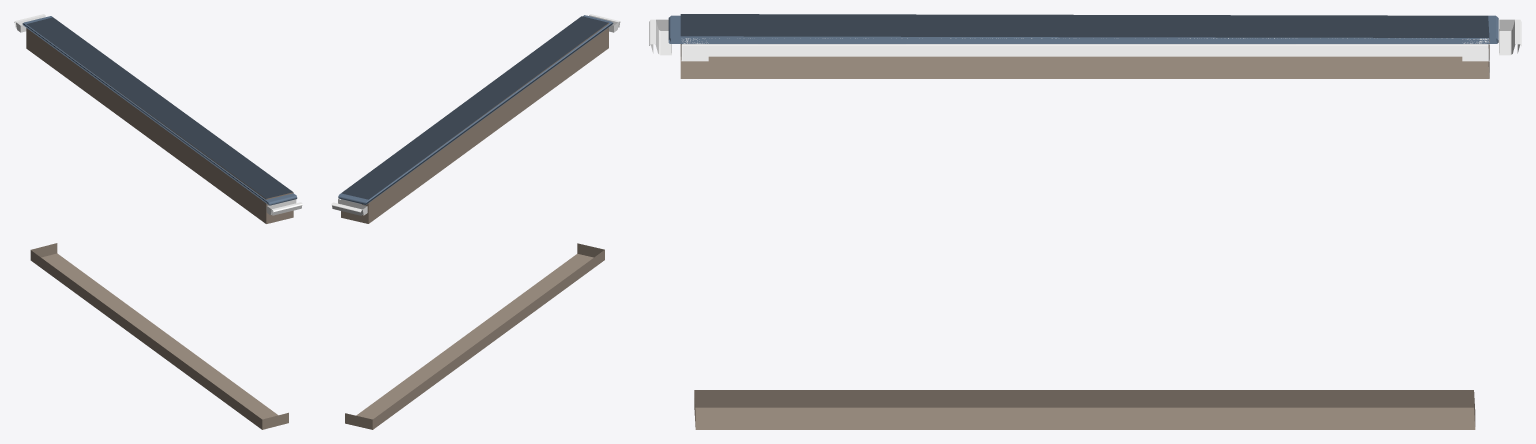
Rendered from si_res_endcap_roof_flat_l.dae.
3 views of the same model, side by side, from view 1: azimuth 30°, elevation 25°; view 2: azimuth 150°, elevation 25°; view 3: azimuth 270°, elevation 25° (orthographic). The views are drawn at different scales.
Visible parts, largest first — view 1: si_res_endcap_roof_flat_l_a10, Colmesh-1, si_res_endcap_roof_flat_l_a300; view 2: si_res_endcap_roof_flat_l_a10, Colmesh-1, si_res_endcap_roof_flat_l_a300; view 3: si_res_endcap_roof_flat_l_a10, Colmesh-1, si_res_endcap_roof_flat_l_a300, si_res_endcap_roof_flat_l_a40.
Boxes of the visible parts, x1,y1,x2,y2 form: si_res_endcap_roof_flat_l_a10: [26, 17, 293, 429]; Colmesh-1: [30, 250, 262, 429]; si_res_endcap_roof_flat_l_a300: [14, 14, 302, 214]; si_res_endcap_roof_flat_l_a10: [341, 16, 608, 429]; Colmesh-1: [372, 250, 604, 429]; si_res_endcap_roof_flat_l_a300: [331, 14, 620, 215]; si_res_endcap_roof_flat_l_a10: [680, 14, 1489, 429]; Colmesh-1: [680, 56, 1489, 407]; si_res_endcap_roof_flat_l_a300: [649, 15, 1521, 61]; si_res_endcap_roof_flat_l_a40: [650, 38, 1520, 61].
Size of the model in its own units: 0.4444 by 6.76 by 3.36.
